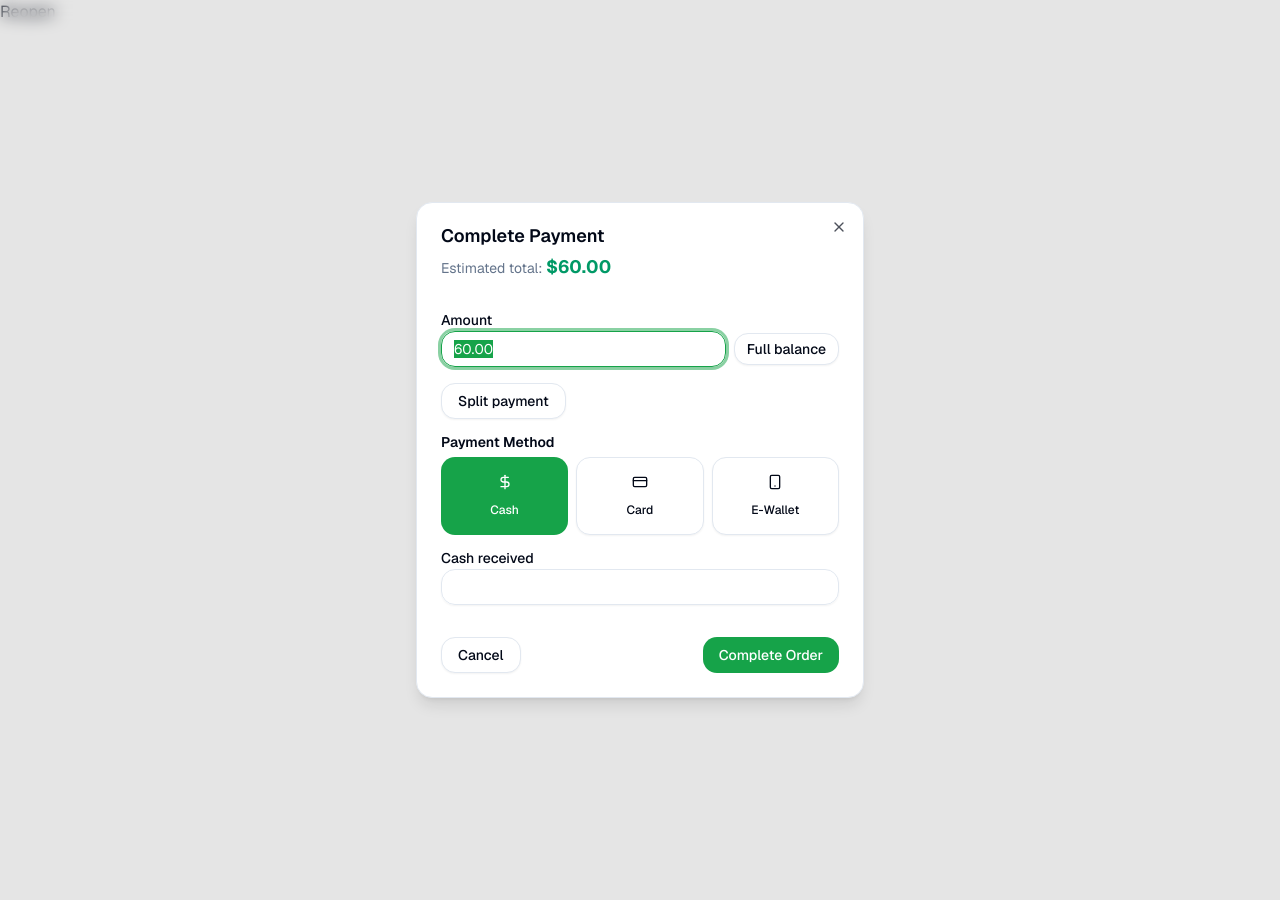
Scenario: PaymentDialog — editable amount (partial payment) › a zero or empty amount also blocks submit
Clear the field labelled "Amount" at (583, 349), box [441,331,726,367]
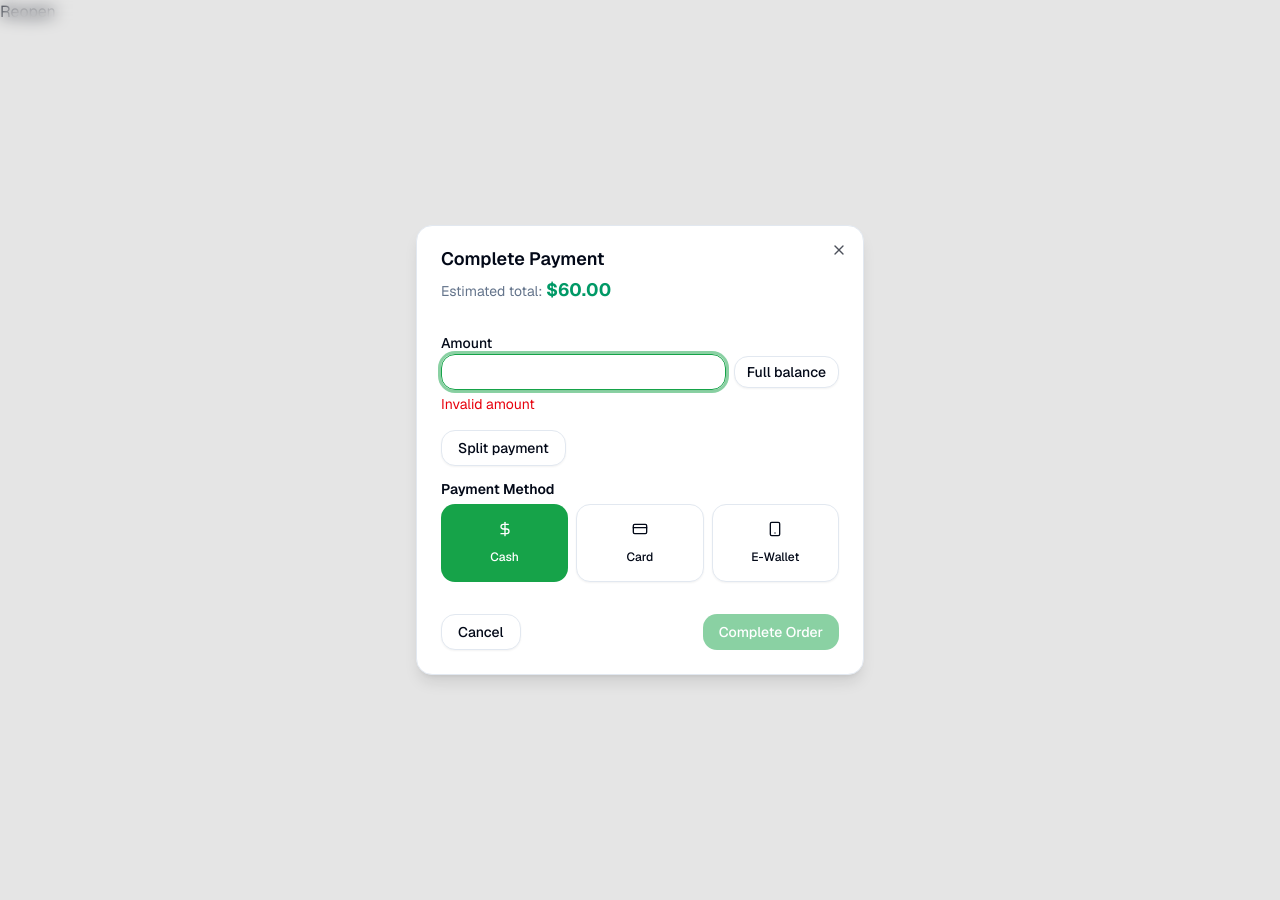
Now the button "Complete Order" is disabled, box [703,614,839,650]
